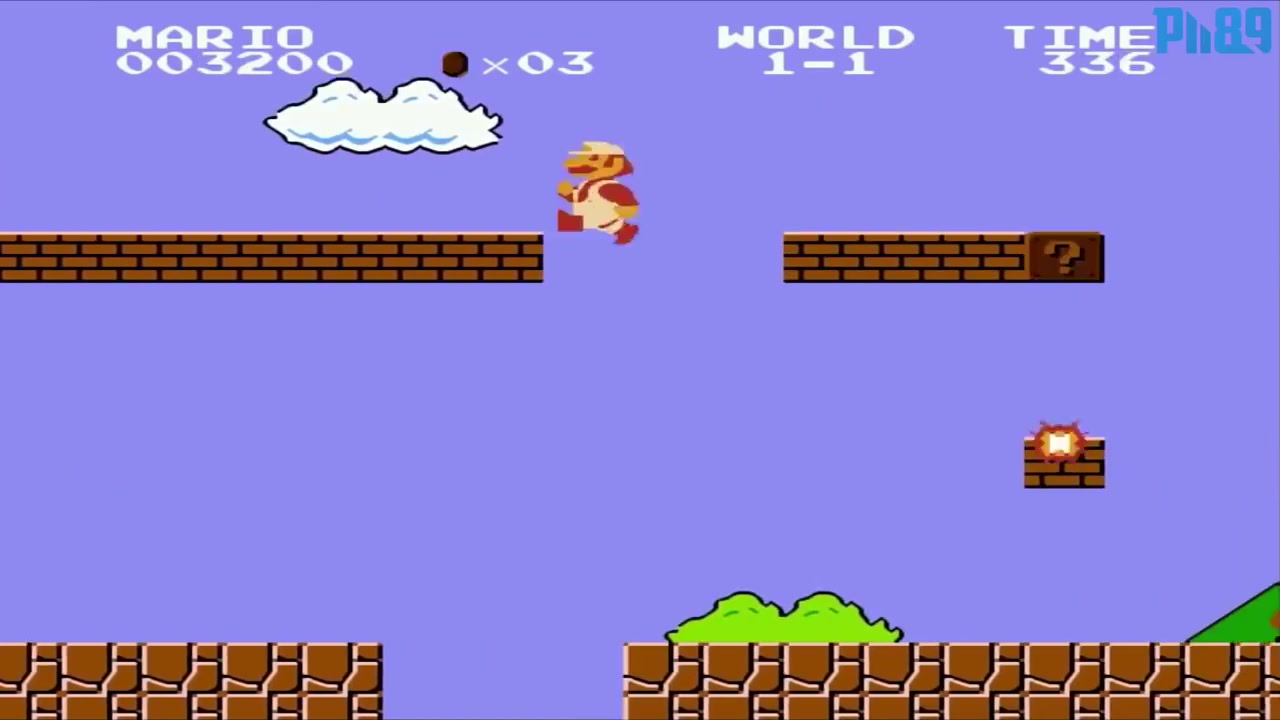mario: (552, 135, 646, 245)
